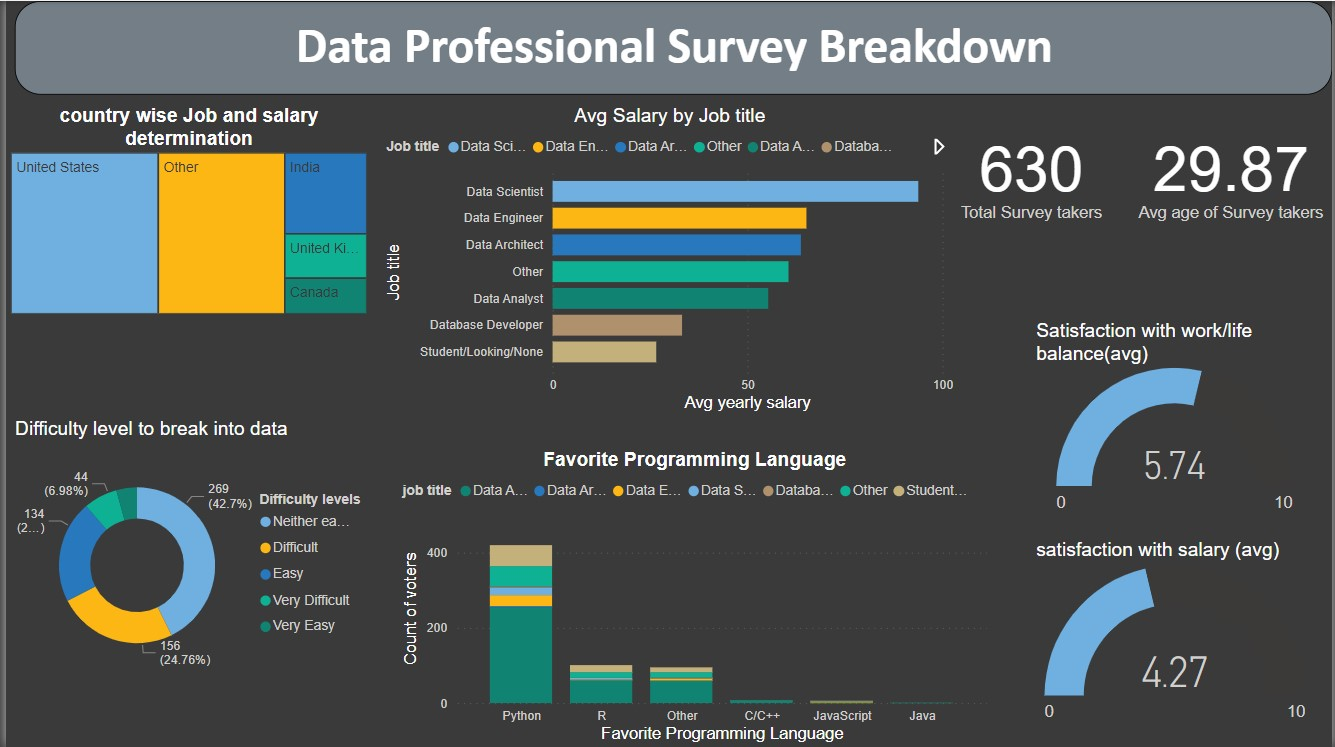

What the dashboard file says about the page in this screenshot:
{"tool":"powerbi","page":{"name":"Page 1","canvas":[1280,720],"ordinal":0},"visuals":[{"type":"textbox","box":[8.9,0,1271.1,90.2],"z":0},{"type":"card","fields":{"Values":["Count(Data Professional Survey.Unique ID)"]},"box":[909.2,100.3,160,133.3],"z":1000},{"type":"card","fields":{"Values":["Avg(Data Professional Survey.Q10 - Current Age)"]},"box":[1084.4,100.3,195.6,133.3],"z":2000},{"type":"barChart","title":"Avg Salary by Job title ","fields":{"Category":["Data Professional Survey.Q1 - Which Title Best Fits your Current Role?.1"],"Series":["Data Professional Survey.Q1 - Which Title Best Fits your Current Role?.1"],"Y":["Avg(Data Professional Survey.Avg yearly salary)"]},"box":[361.9,100.3,557.5,301],"z":3000},{"type":"columnChart","title":"  Favorite Programming Language","fields":{"Category":["Data Professional Survey.Q5 - Favorite Programming Language.1.1"],"Y":["CountNonNull(Data Professional Survey.Unique ID)"],"Series":["Data Professional Survey.Q1 - Which Title Best Fits your Current Role?.1"]},"box":[377.1,431.7,574,288.3],"z":4000},{"type":"treemap","title":"country wise Job and salary determination","fields":{"Group":["Data Professional Survey.Q11 - Which Country do you live in?.1"],"Values":["CountNonNull(Data Professional Survey.Q11 - Which Country do you live in?.1)"]},"box":[0,100.3,353,207],"z":5000},{"type":"gauge","title":" Satisfaction with work/life balance(avg)","fields":{"Y":["Avg(Data Professional Survey.Q6 - How Happy are you in your Current Position with the following? (Work/Life Balance))"],"MinValue":["Min(Data Professional Survey.Q6 - How Happy are you in your Current Position with the following? (Work/Life Balance))"],"MaxValue":["Max(Data Professional Survey.Q6 - How Happy are you in your Current Position with the following? (Work/Life Balance))"]},"box":[989.2,307.3,276.8,193],"z":6000},{"type":"gauge","title":"satisfaction with salary (avg)","fields":{"Y":["Avg(Data Professional Survey.Q6 - How Happy are you in your Current Position with the following? (Salary))"],"MinValue":["Min(Data Professional Survey.Q6 - How Happy are you in your Current Position with the following? (Salary))"],"MaxValue":["Max(Data Professional Survey.Q6 - How Happy are you in your Current Position with the following? (Salary))"]},"box":[989.2,518.1,278.1,184.1],"z":7000},{"type":"donutChart","title":"Difficulty level to break into data","fields":{"Category":["Data Professional Survey.Q7 - How difficult was it for you to break into Data?"],"Y":["CountNonNull(Data Professional Survey.Q7 - How difficult was it for you to break into Data?)"]},"box":[3.8,401.3,346.7,265.4],"z":8000}]}

Visuals, with their boxes in screenshot pixels (x1, y1, x2, y2), scaled from the page's 1280x720 canvas onto the 1335x747 screenshot:
textbox: rect(9, 0, 1334, 94)
card - Count(Data Professional Survey.Unique ID): rect(948, 104, 1115, 242)
card - Avg(Data Professional Survey.Q10 - Current Age): rect(1131, 104, 1334, 242)
"Avg Salary by Job title " barChart: rect(377, 104, 959, 416)
"  Favorite Programming Language" columnChart: rect(393, 448, 992, 746)
"country wise Job and salary determination" treemap: rect(0, 104, 368, 319)
" Satisfaction with work/life balance(avg)" gauge: rect(1032, 319, 1320, 519)
"satisfaction with salary (avg)" gauge: rect(1032, 538, 1322, 729)
"Difficulty level to break into data" donutChart: rect(4, 416, 366, 692)
